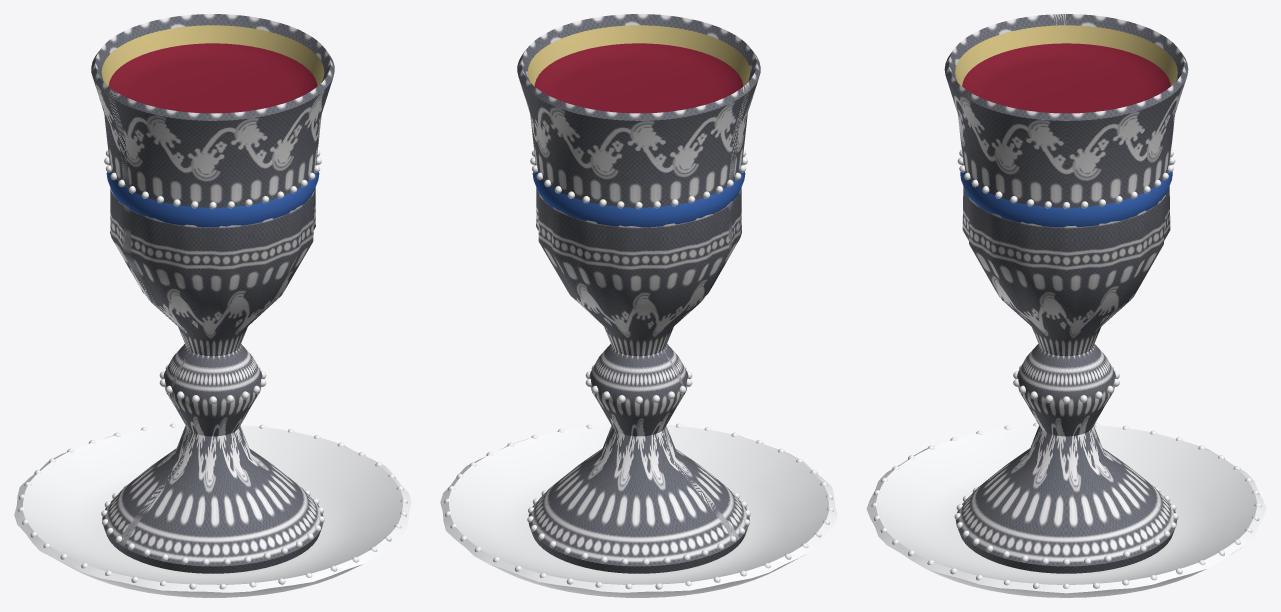
Rendered from kiddush_cup.glb.
3 renders of one model, left to right at view 1: azimuth 30°, elevation 25°; view 2: azimuth 150°, elevation 25°; view 3: azimuth 270°, elevation 25°, orthographic.
Visible parts, largest first — view 1: Kiddush_Cup_Set, KosherWine_Level4; view 2: Kiddush_Cup_Set, KosherWine_Level4; view 3: Kiddush_Cup_Set, KosherWine_Level4.
Boxes of the visible parts, x1,y1,x2,y2 form: Kiddush_Cup_Set: (14, 14, 411, 597); KosherWine_Level4: (108, 43, 317, 113); Kiddush_Cup_Set: (440, 14, 837, 597); KosherWine_Level4: (534, 43, 743, 113); Kiddush_Cup_Set: (866, 14, 1266, 597); KosherWine_Level4: (962, 43, 1170, 113).
Bounding box in the file's own units: 0.1264 × 0.1662 × 0.1264.
5 materials, 1 textured.
